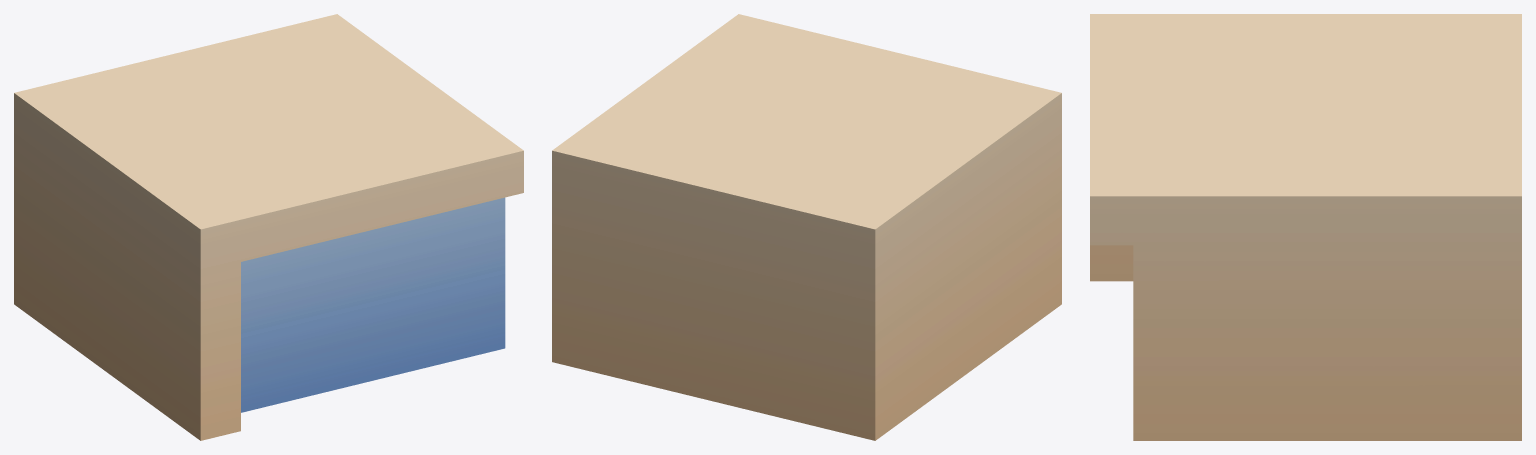
File: kenney-modular-buildings-building-window-large-left.glb
3 renders of one model, left to right at view 1: azimuth 30°, elevation 25°; view 2: azimuth 150°, elevation 25°; view 3: azimuth 270°, elevation 25°, orthographic. The views are drawn at different scales.
Visible parts, largest first — view 1: building-window-large-left; view 2: building-window-large-left; view 3: building-window-large-left.
Boxes of the visible parts, left/top/right/bottom form: building-window-large-left: left=14, top=14, right=523, bottom=440; building-window-large-left: left=552, top=14, right=1061, bottom=440; building-window-large-left: left=1090, top=14, right=1521, bottom=440.
Size of the model in its own units: 1 by 0.625 by 1.
Materials: 1 (1 with a texture image).
